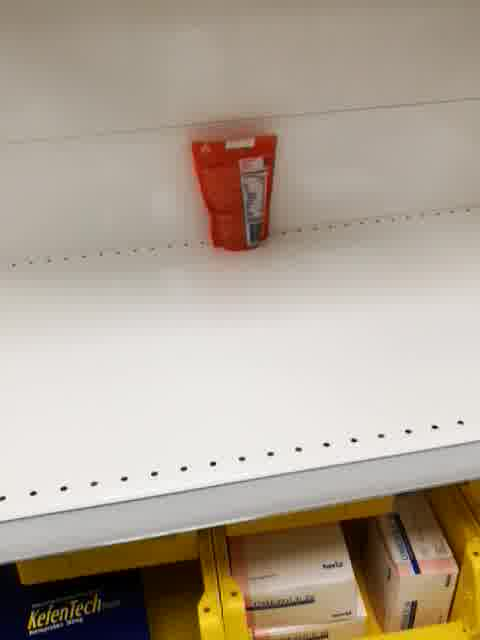whitechia: (189, 132, 281, 252)
